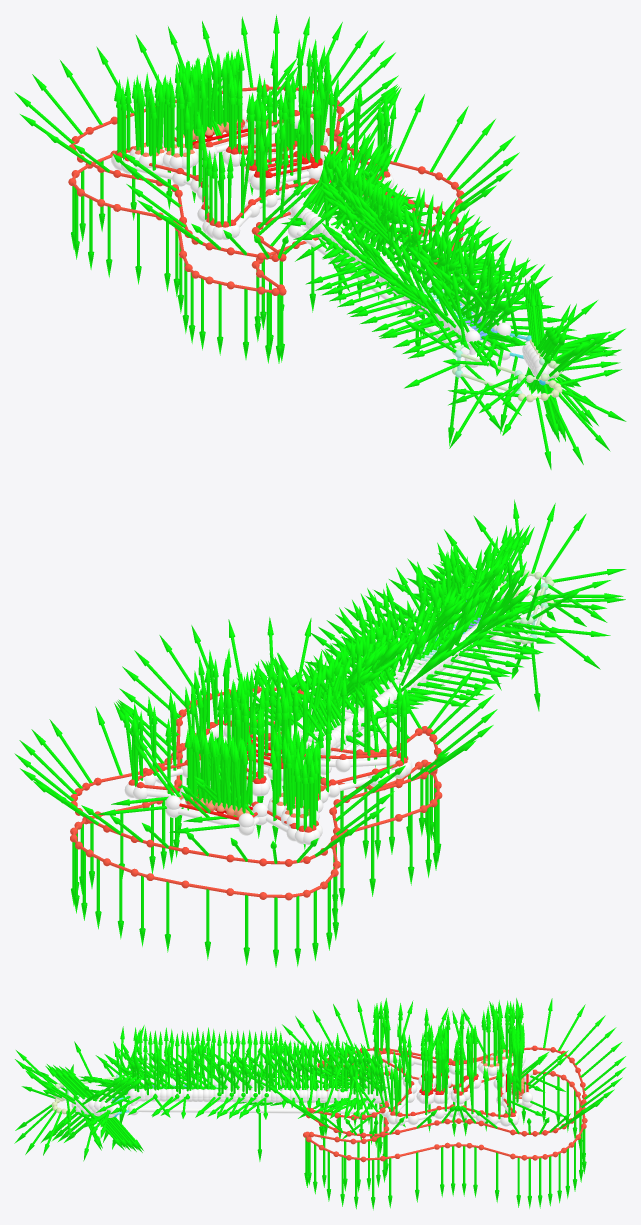
File: onshape_guitar.gltf
The picture shows the model from 3 angles, top to bottom: view 1: azimuth 30°, elevation 25°; view 2: azimuth 150°, elevation 25°; view 3: azimuth 270°, elevation 25°; orthographic projection. The views are drawn at different scales.
Bounding box in the file's own units: 0.5056 × 0.265 × 1.07.
